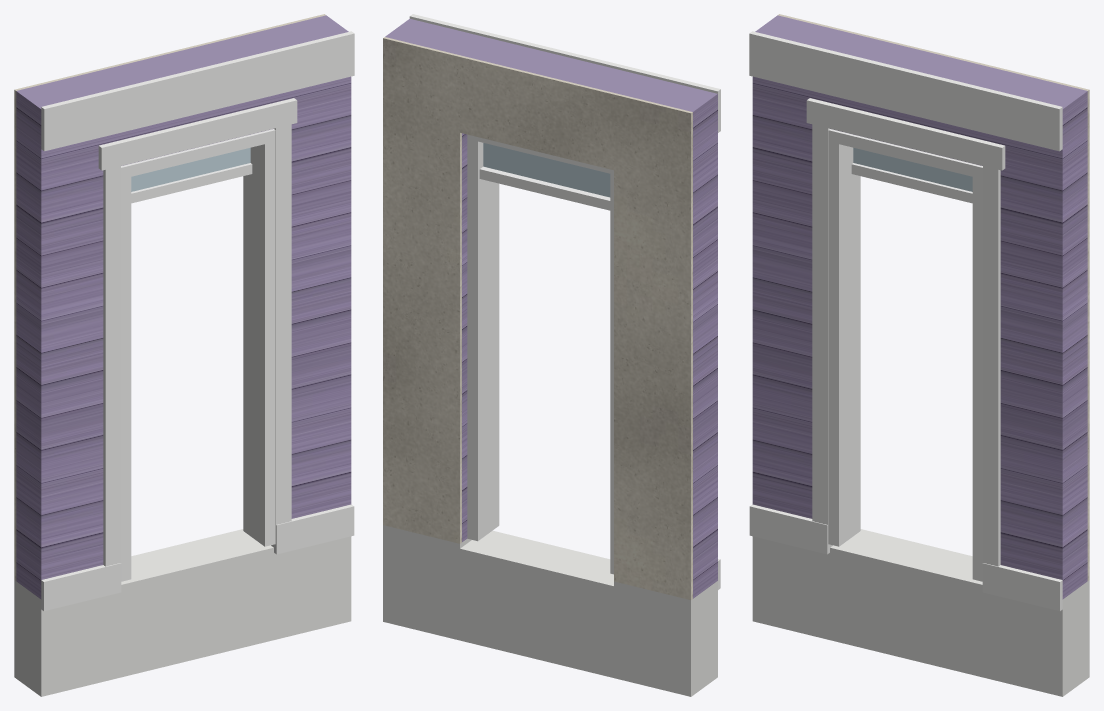
The model's file is wall_d_door.glb.
The picture shows the model from 3 angles, left to right: view 1: azimuth 30°, elevation 25°; view 2: azimuth 150°, elevation 25°; view 3: azimuth 330°, elevation 25°; orthographic projection.
Parts seen in each view (by area): view 1: wall_d_door_siding_d, wall_d_door_trim, wall_d_door_lattice, wall_d_door_frame, wall_d_door_plaster, wall_d_door_glass; view 2: wall_d_door_plaster, wall_d_door_lattice, wall_d_door_siding_d, wall_d_door_frame, wall_d_door_glass, wall_d_door_trim; view 3: wall_d_door_siding_d, wall_d_door_trim, wall_d_door_lattice, wall_d_door_frame, wall_d_door_plaster, wall_d_door_glass.
Boxes of the visible parts, x1=… form: wall_d_door_siding_d: x1=16, y1=15, x2=351, y2=599; wall_d_door_trim: x1=41, y1=31, x2=354, y2=611; wall_d_door_lattice: x1=14, y1=529, x2=351, y2=696; wall_d_door_frame: x1=121, y1=129, x2=275, y2=581; wall_d_door_plaster: x1=14, y1=14, x2=325, y2=580; wall_d_door_glass: x1=131, y1=147, x2=250, y2=191; wall_d_door_plaster: x1=383, y1=37, x2=692, y2=599; wall_d_door_lattice: x1=383, y1=525, x2=717, y2=696; wall_d_door_siding_d: x1=385, y1=19, x2=717, y2=598; wall_d_door_frame: x1=467, y1=134, x2=613, y2=574; wall_d_door_glass: x1=483, y1=143, x2=610, y2=197; wall_d_door_trim: x1=409, y1=14, x2=720, y2=589; wall_d_door_siding_d: x1=752, y1=15, x2=1087, y2=599; wall_d_door_trim: x1=749, y1=31, x2=1062, y2=611; wall_d_door_lattice: x1=752, y1=529, x2=1089, y2=696; wall_d_door_frame: x1=828, y1=129, x2=982, y2=581; wall_d_door_plaster: x1=778, y1=14, x2=1089, y2=580; wall_d_door_glass: x1=853, y1=147, x2=972, y2=191.
Bounding box in the file's own units: 2 × 3.63 × 0.335.
6 materials, 2 textured.
